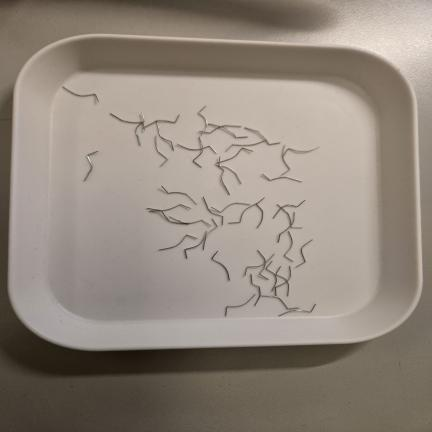probe: (161, 186, 198, 204), (225, 294, 255, 316), (62, 86, 99, 102), (159, 235, 197, 250), (211, 251, 230, 280), (296, 239, 313, 268), (84, 151, 98, 181), (155, 136, 168, 162), (160, 163, 163, 166)
